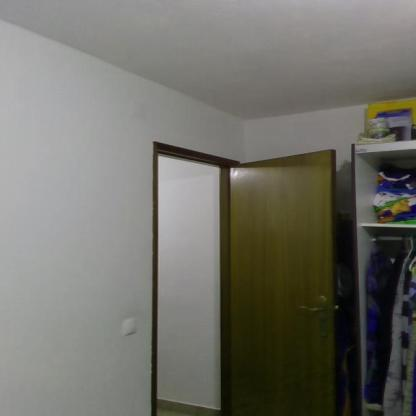door: (143, 136, 350, 416)
